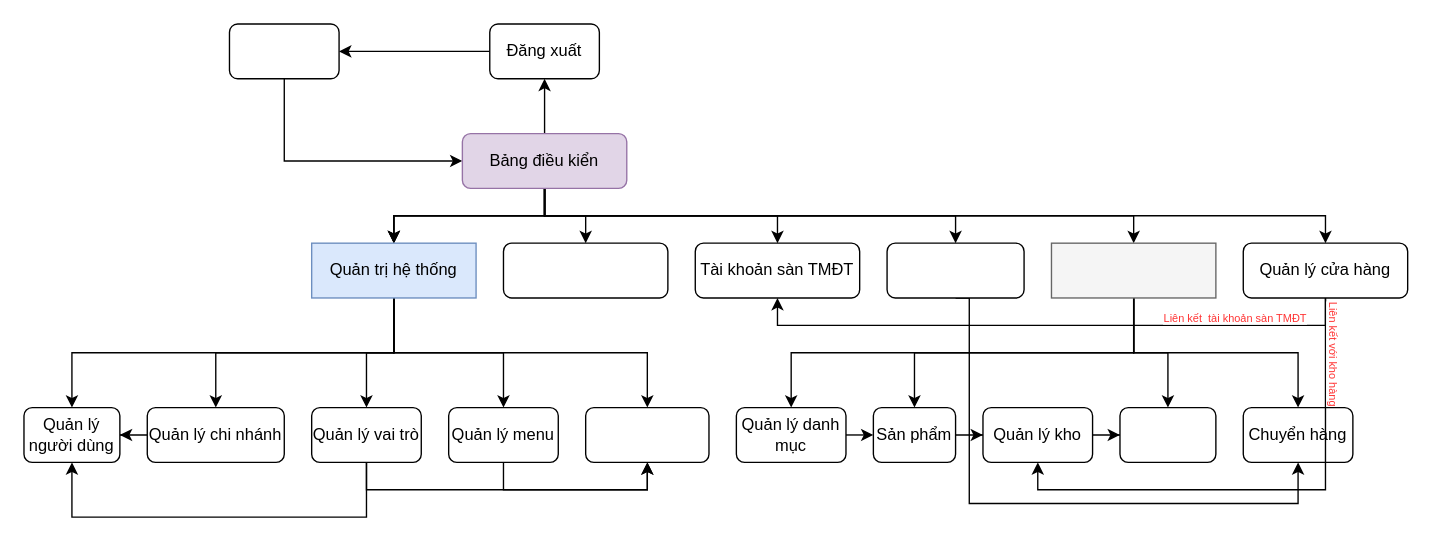
Image size: 1432x552. Some labels were removed from this diagram. Each missing label, with the centre of its shape:
"Nhập hàng" goes at (x=1167, y=434).
"Phân quyền" goes at (x=646, y=434).
"Quản lý kênh bán" goes at (x=585, y=270).
"Quản lý sản phẩm" goes at (x=1133, y=270).
"Quản lý đơn hàng" goes at (x=955, y=270).
"Đăng nhập" goes at (x=283, y=51).
